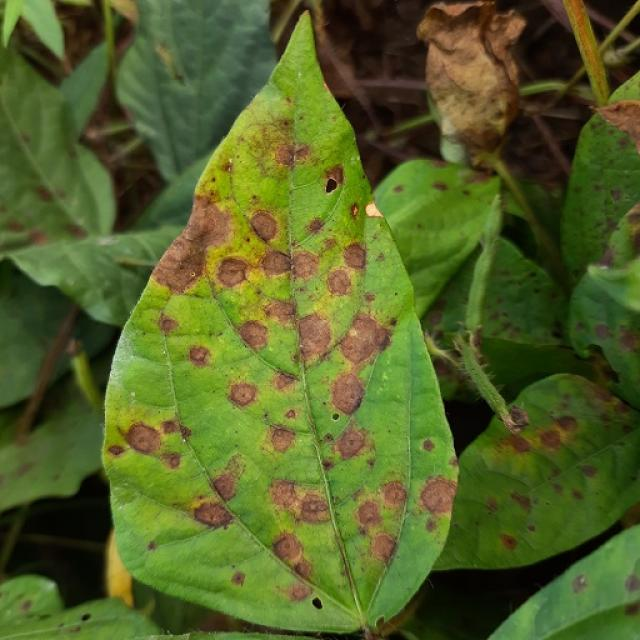Anthracnose: (152, 193, 239, 295), (216, 247, 291, 300), (337, 314, 386, 367), (186, 199, 235, 250), (327, 371, 368, 418), (329, 371, 367, 416), (297, 313, 334, 357), (419, 476, 456, 515), (124, 421, 164, 456), (161, 259, 199, 294), (192, 500, 233, 528), (335, 427, 368, 461), (216, 256, 249, 289), (237, 320, 269, 352), (298, 494, 331, 524), (272, 533, 303, 564), (269, 480, 300, 511), (249, 210, 279, 241), (291, 250, 320, 281), (261, 250, 292, 278), (370, 532, 397, 563), (212, 471, 238, 502), (228, 381, 257, 408), (326, 268, 353, 297), (382, 480, 408, 509), (356, 500, 381, 529), (269, 426, 296, 452), (343, 243, 367, 270), (273, 142, 297, 167), (505, 433, 533, 454), (540, 428, 565, 450), (188, 345, 211, 367), (510, 491, 532, 513), (618, 329, 639, 351), (289, 583, 312, 602), (273, 372, 296, 391), (158, 316, 179, 335), (306, 218, 326, 235), (163, 453, 182, 470), (624, 574, 640, 594), (500, 533, 518, 550), (572, 574, 588, 593), (594, 323, 610, 340), (107, 444, 125, 457), (231, 571, 245, 586), (486, 497, 499, 513), (422, 438, 435, 452)
Blackgram: (102, 19, 456, 631)
